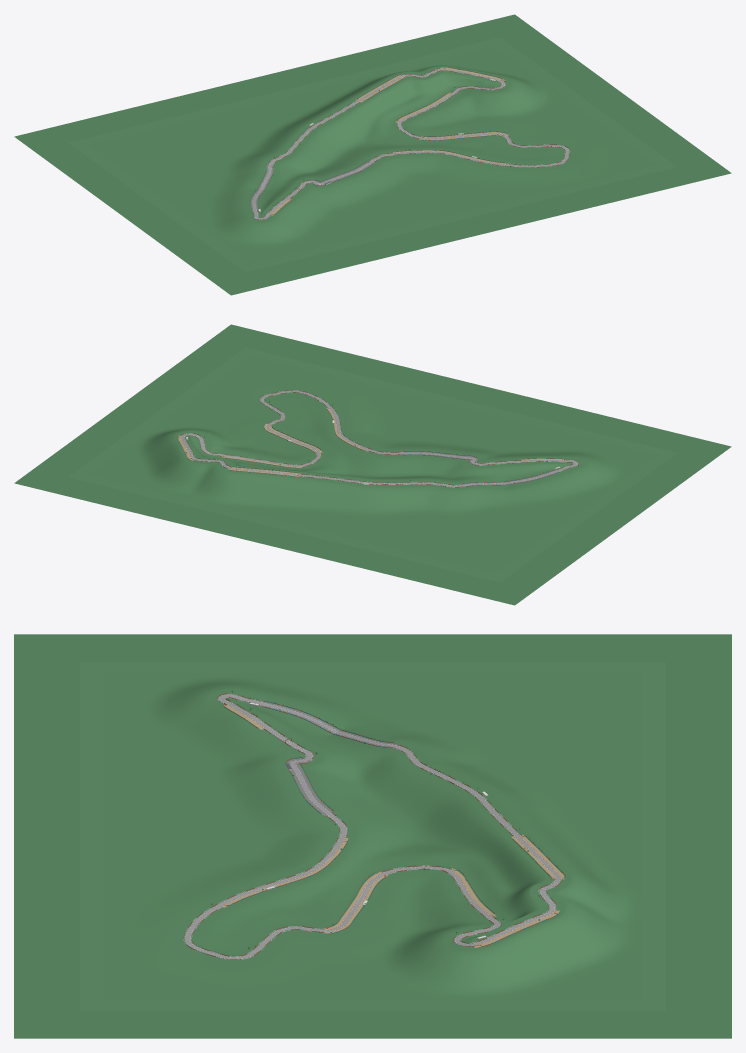
The model's file is spa.glb.
3 renders of one model, top to bottom at view 1: azimuth 30°, elevation 25°; view 2: azimuth 150°, elevation 25°; view 3: azimuth 270°, elevation 25°, orthographic. The views are drawn at different scales.
Parts seen in each view (by area): view 1: terrain_infield, terrain_outskirts, terrain_verge, track_embankment, track_surface, continuous_safety_barriers, track_runoff, gravel_runoff_zones; view 2: terrain_infield, terrain_outskirts, terrain_verge, track_embankment, track_surface, continuous_safety_barriers, track_runoff, gravel_runoff_zones, asphalt_runoff_zones; view 3: terrain_infield, terrain_outskirts, terrain_verge, track_embankment, track_surface, track_runoff, continuous_safety_barriers, gravel_runoff_zones, track_curbs, asphalt_runoff_zones.
Part boxes in pixels (x1,y1,x2,y2): terrain_infield: (88, 46, 657, 263); terrain_outskirts: (14, 14, 731, 295); terrain_verge: (68, 37, 677, 272); track_embankment: (246, 66, 575, 222); track_surface: (252, 69, 568, 219); continuous_safety_barriers: (250, 67, 569, 219); track_runoff: (252, 68, 569, 219); gravel_runoff_zones: (270, 67, 509, 215); terrain_infield: (88, 356, 657, 573); terrain_outskirts: (14, 324, 731, 605); terrain_verge: (68, 347, 677, 582); track_embankment: (175, 388, 584, 489); track_surface: (181, 390, 577, 486); continuous_safety_barriers: (178, 390, 578, 487); track_runoff: (181, 391, 578, 486); gravel_runoff_zones: (178, 407, 563, 476); asphalt_runoff_zones: (400, 451, 561, 487); terrain_infield: (104, 672, 641, 1000); terrain_outskirts: (14, 634, 731, 1038); terrain_verge: (80, 662, 665, 1010); track_embankment: (174, 690, 570, 963); track_surface: (185, 694, 560, 959); track_runoff: (184, 694, 561, 959); continuous_safety_barriers: (183, 693, 565, 959); gravel_runoff_zones: (222, 704, 564, 947); track_curbs: (185, 694, 560, 959); asphalt_runoff_zones: (258, 700, 405, 816).
Bounding box in the file's own units: 3191 × 111 × 2396.
